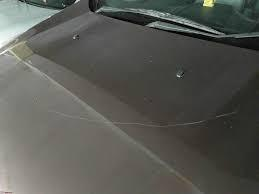bonnet-dent: (1, 21, 258, 194)
